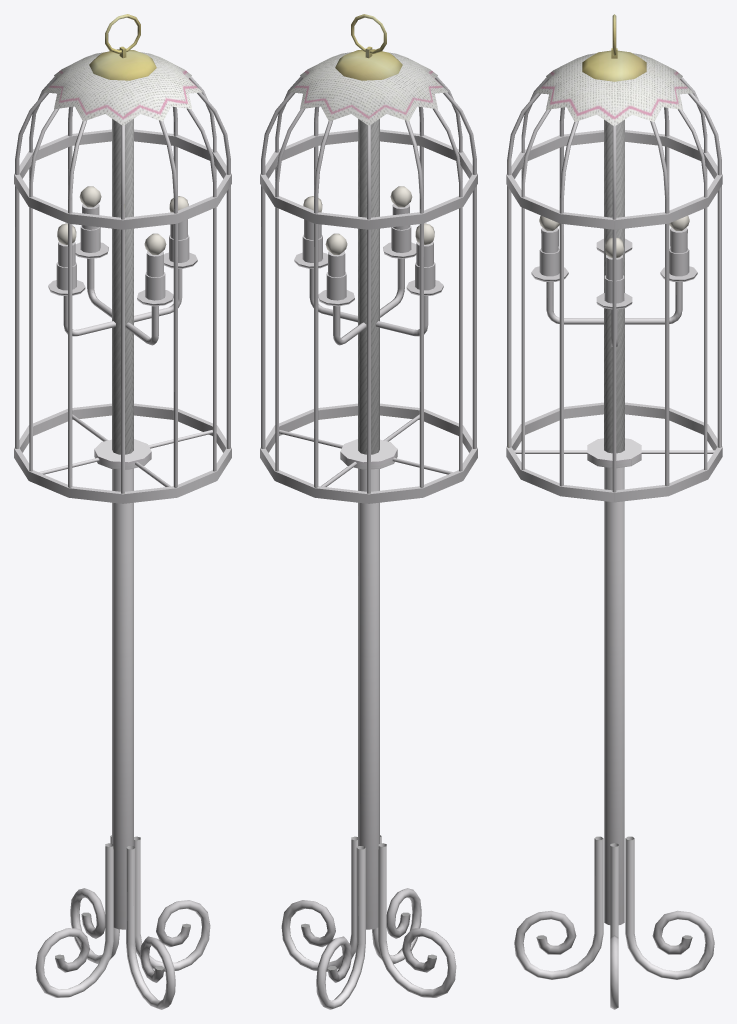
File: sangkar.fbx
3 renders of one model, left to right at view 1: azimuth 30°, elevation 25°; view 2: azimuth 150°, elevation 25°; view 3: azimuth 270°, elevation 25°, orthographic.
Parts seen in each view (by area): view 1: polySurface9; view 2: polySurface9; view 3: polySurface9.
Boxes of the visible parts, x1,y1,x2,y2 form: polySurface9: (14, 14, 231, 1009); polySurface9: (260, 14, 477, 1009); polySurface9: (506, 14, 722, 1009).
Size of the model in its own units: 4.11 by 20.2 by 4.11.
3 materials, 1 textured.
